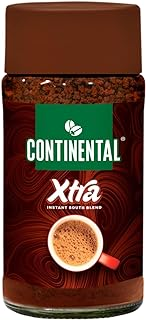Coffee: (2, 5, 146, 315)
